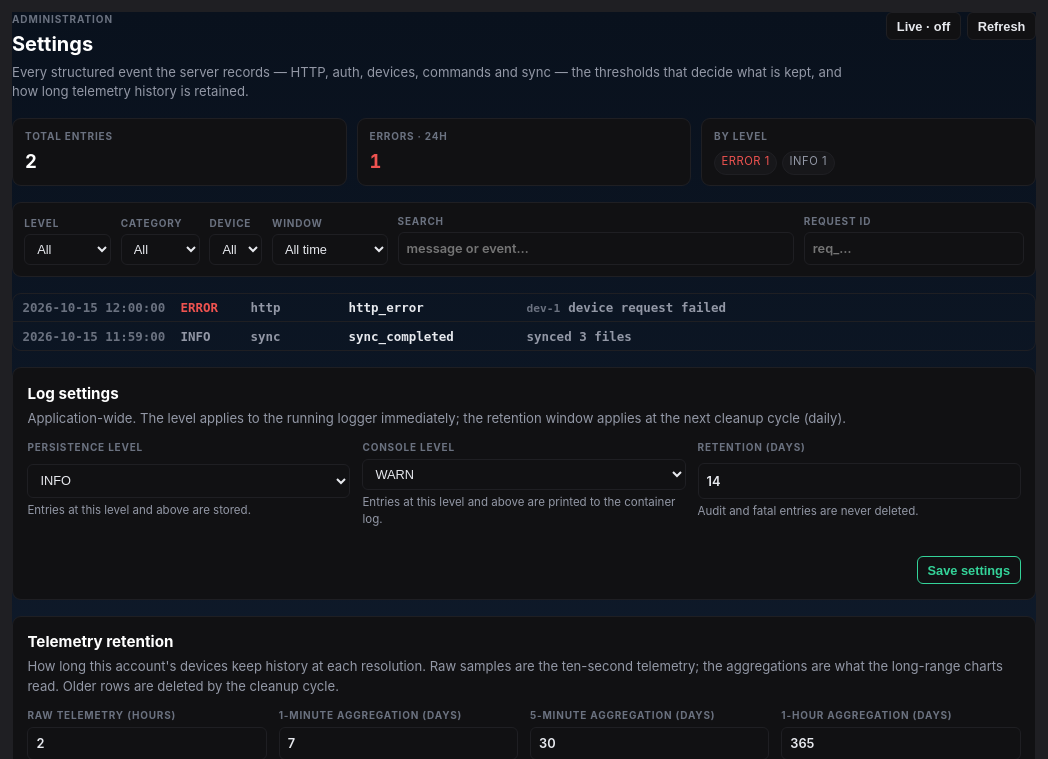
Test: Application settings screen › saves the settings and confirms
This screenshot has width=1048, height=759.
Select "DEBUG" in the dropdown labelled "Persistence level" at (189, 481), box top-left (27, 464), bottom-right (350, 498)
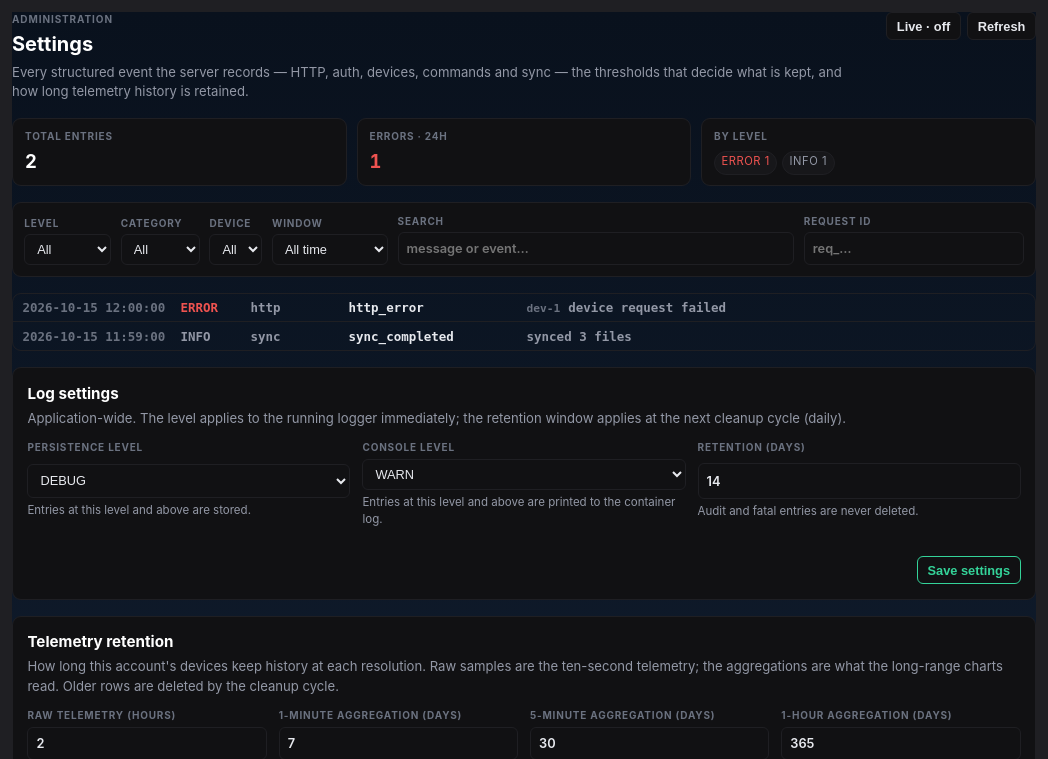
Click the button "Save settings" at (969, 570), box top-left (917, 556), bottom-right (1021, 584)
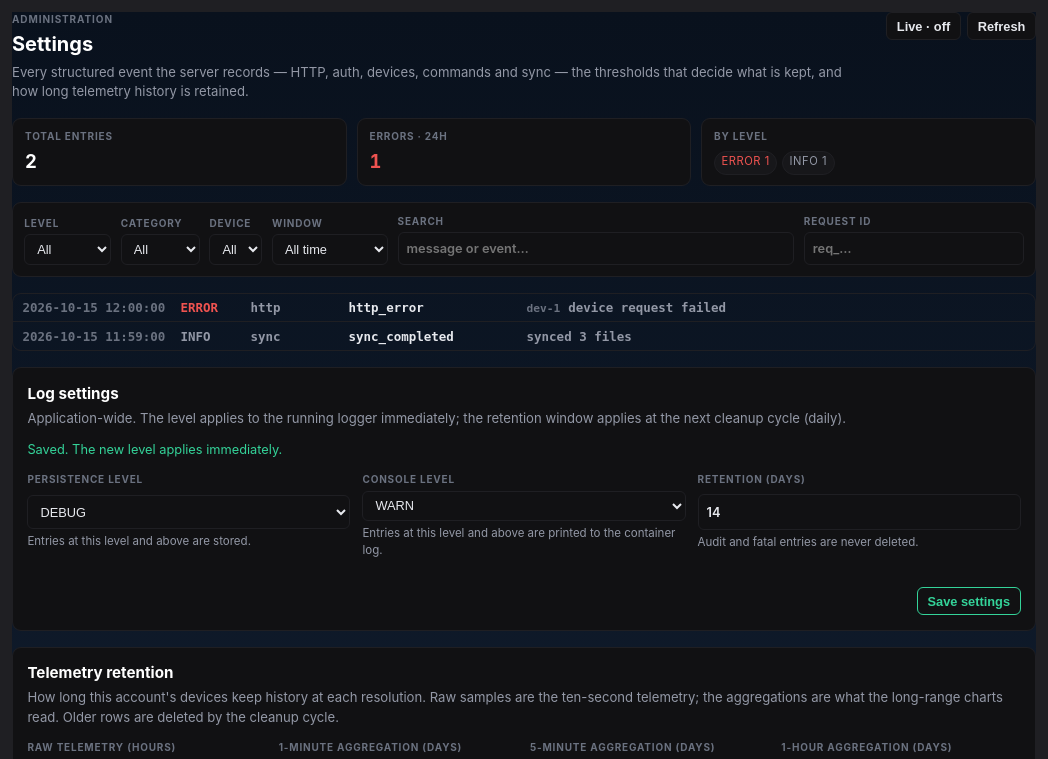
Expected: the text "Saved. The new level applies immediately." is shown, top-left (27, 442), bottom-right (282, 457)
